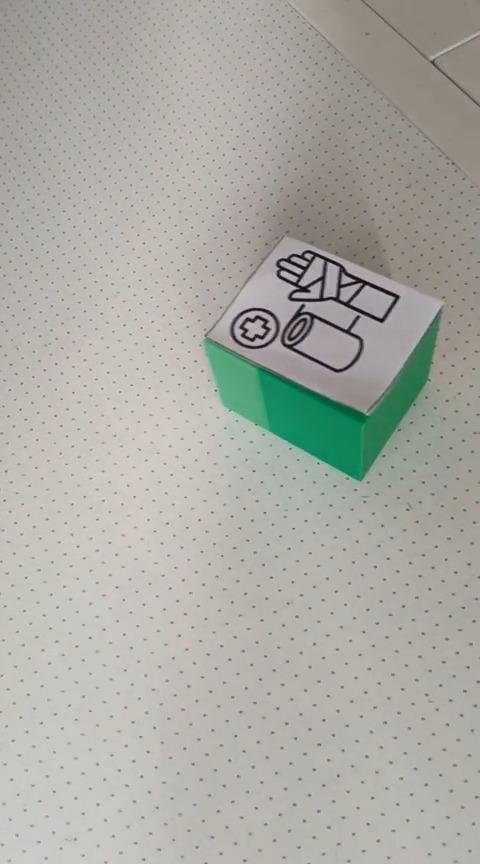Bandages: (202, 232, 444, 481)
